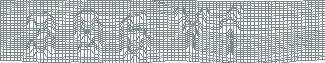3: (25, 11, 58, 61)
6: (117, 10, 151, 63)
9: (71, 9, 104, 60)
Y: (172, 5, 212, 57)
f: (218, 6, 245, 58)
